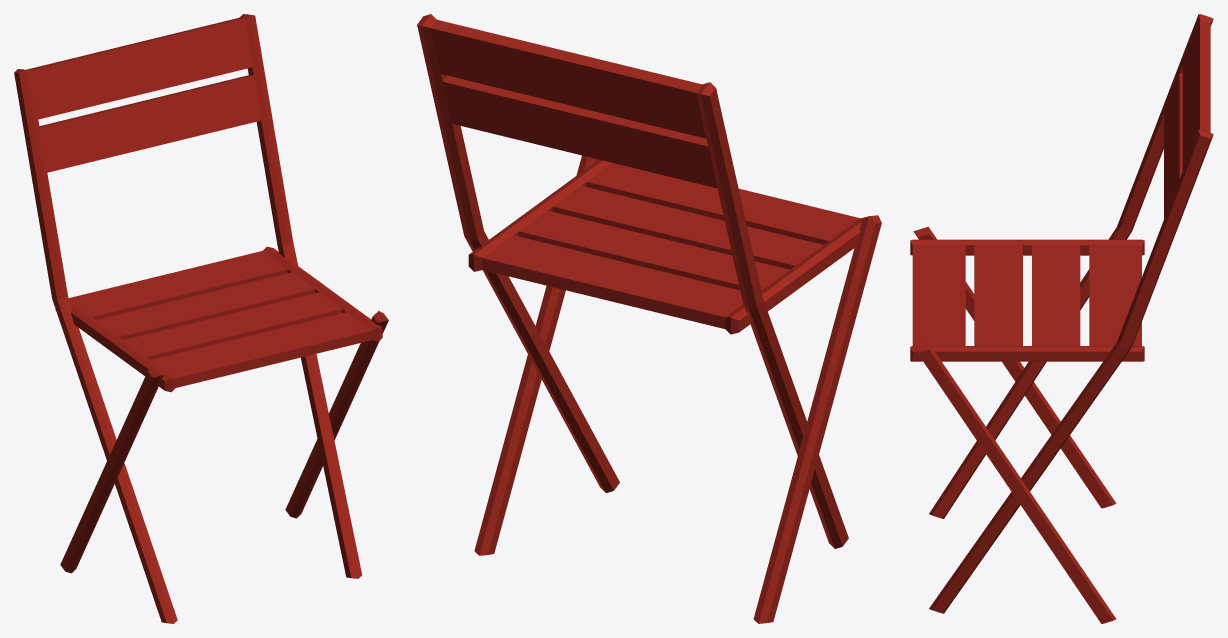
File: CafeChair.fbx
The picture shows the model from 3 angles, left to right: view 1: azimuth 30°, elevation 25°; view 2: azimuth 150°, elevation 25°; view 3: azimuth 270°, elevation 25°; orthographic projection. The views are drawn at different scales.
Visible parts, largest first — view 1: CafeChair; view 2: CafeChair; view 3: CafeChair.
Boxes of the visible parts, box(x1,y1,x2,y2) form: CafeChair: box(14, 14, 388, 623); CafeChair: box(417, 14, 881, 623); CafeChair: box(910, 14, 1213, 623).
Size of the model in its own units: 41.21 by 78.38 by 43.62.
